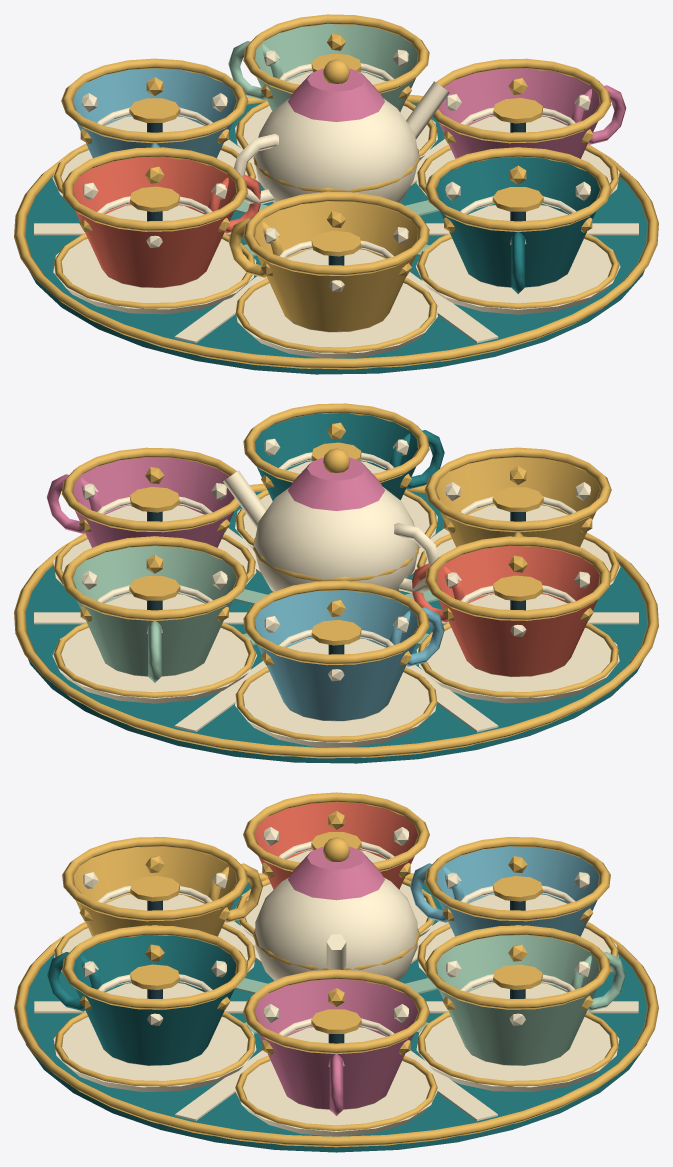
The model's file is ride_teacups_motion.glb.
3 renders of one model, top to bottom at view 1: azimuth 30°, elevation 25°; view 2: azimuth 150°, elevation 25°; view 3: azimuth 270°, elevation 25°, orthographic.
Parts seen in each view (by area): view 1: ride_teacups_motion; view 2: ride_teacups_motion; view 3: ride_teacups_motion.
Boxes of the visible parts, box(x1,y1,x2,y2) form: ride_teacups_motion: box(14, 14, 658, 374); ride_teacups_motion: box(14, 403, 658, 763); ride_teacups_motion: box(14, 792, 658, 1152).
Size of the model in its own units: 6.74 by 2.04 by 6.62.
